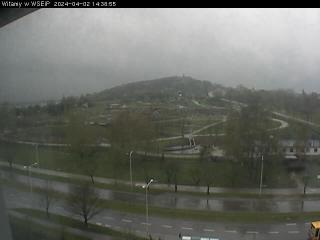bus: (308, 219, 320, 240)
